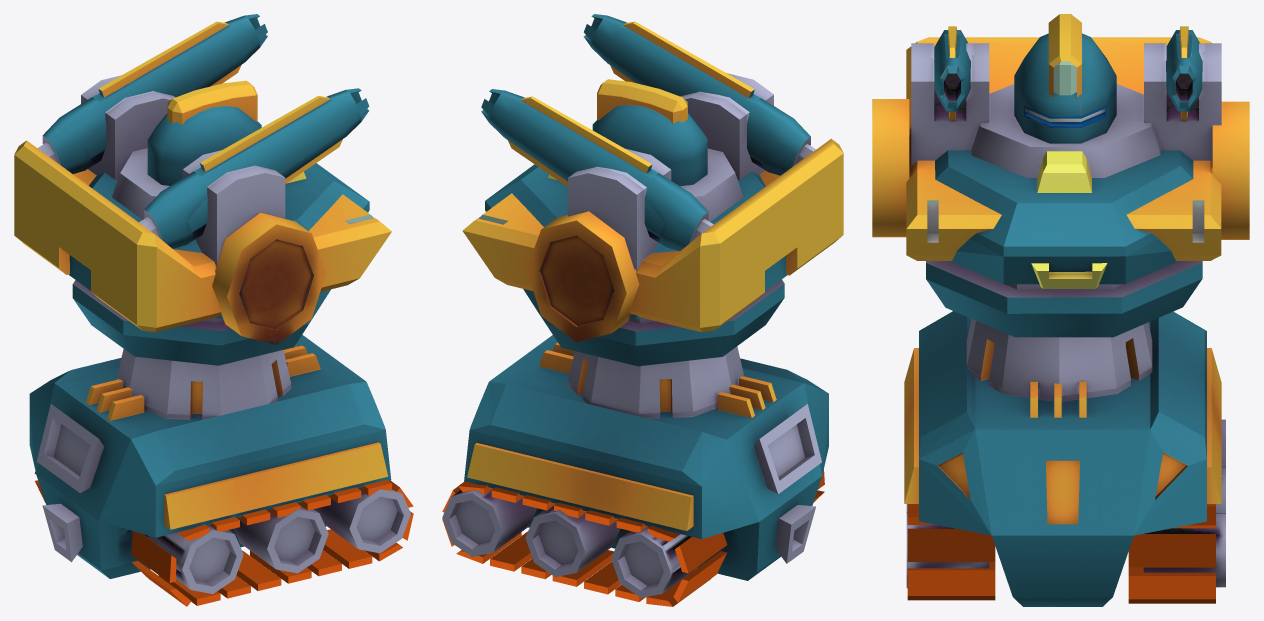
The model's file is Player_Idle19.obj.
3 views of the same model, side by side, from view 1: azimuth 30°, elevation 25°; view 2: azimuth 150°, elevation 25°; view 3: azimuth 270°, elevation 25° (orthographic). The views are drawn at different scales.
Parts seen in each view (by area): view 1: Object004, Object008, Object014, Box009, Box017; view 2: Object004, Object008, Object014, Box009, Box016; view 3: Object004, Object008, Box016, Box017, Object014, Box009.
Boxes of the visible parts, x1=… form: Object004: x1=14, y1=75, x2=391, y2=365; Object008: x1=29, y1=334, x2=391, y2=578; Object014: x1=37, y1=14, x2=369, y2=248; Box009: x1=148, y1=489, x2=410, y2=593; Box017: x1=131, y1=480, x2=413, y2=606; Object004: x1=462, y1=73, x2=843, y2=366; Object008: x1=464, y1=335, x2=828, y2=580; Object014: x1=481, y1=14, x2=815, y2=251; Box009: x1=442, y1=488, x2=698, y2=597; Box016: x1=442, y1=481, x2=726, y2=606; Object004: x1=872, y1=14, x2=1249, y2=337; Object008: x1=904, y1=311, x2=1221, y2=606; Box016: x1=1128, y1=504, x2=1215, y2=603; Box017: x1=907, y1=504, x2=995, y2=600; Object014: x1=934, y1=26, x2=1202, y2=120; Box009: x1=906, y1=419, x2=1225, y2=588.
Bounding box in the file's own units: 54.79 × 80.92 × 52.49.
Materials: 2 (1 with a texture image).
